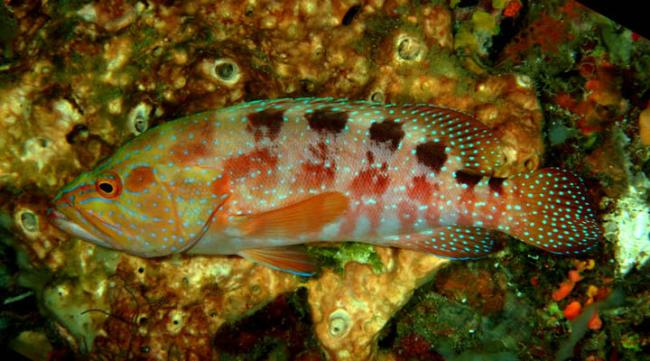fish: (50, 97, 599, 278)
